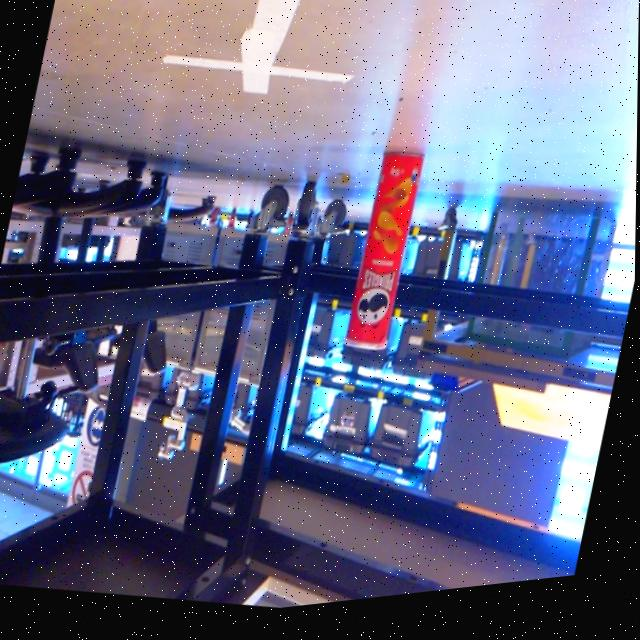redpringles: (312, 130, 451, 387)
